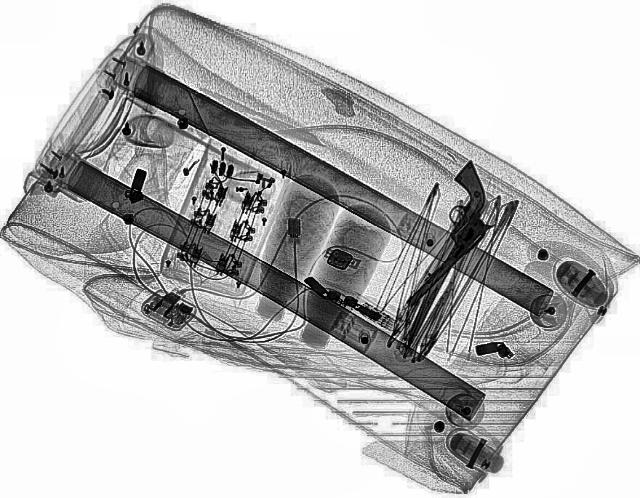Gun: (362, 160, 528, 308)
